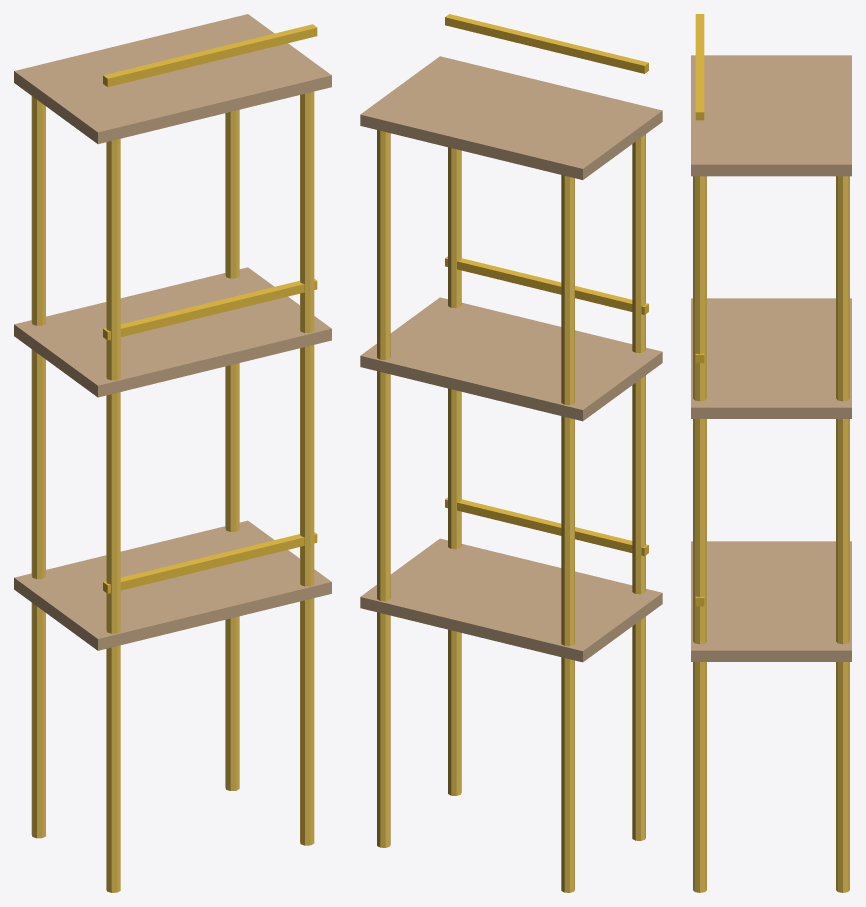
File: scaffold.fbx
3 views of the same model, side by side, from view 1: azimuth 30°, elevation 25°; view 2: azimuth 150°, elevation 25°; view 3: azimuth 270°, elevation 25° (orthographic). The views are drawn at different scales.
Visible parts, largest first — view 1: Plank2, Plank1, Plank0, Pole010, Pole000, Pole110, Pole210, Pole100, Pole200, Pole001, Pole101, Pole201 (+6 smaller); view 2: Plank2, Plank0, Plank1, Pole001, Pole011, Pole101, Pole211, Pole111, Pole201, Pole000, Pole100, Pole200 (+6 smaller); view 3: Plank2, Plank0, Plank1, Pole010, Pole011, Pole111, Pole211, Pole110, Pole210, RailX2.
Part boxes in pixels (x1,y1,x2,y2): Plank2: [14, 14, 331, 143]; Plank1: [14, 267, 331, 397]; Plank0: [14, 520, 331, 650]; Pole010: [300, 598, 314, 845]; Pole000: [106, 645, 120, 892]; Pole110: [300, 345, 314, 586]; Pole210: [300, 91, 314, 333]; Pole100: [106, 392, 120, 633]; Pole200: [106, 139, 120, 380]; Pole001: [31, 603, 45, 838]; Pole101: [31, 349, 45, 579]; Pole201: [31, 96, 45, 325]; Plank2: [360, 56, 662, 179]; Plank0: [360, 538, 662, 662]; Plank1: [360, 297, 662, 421]; Pole001: [561, 657, 574, 892]; Pole011: [377, 612, 390, 847]; Pole101: [561, 416, 574, 646]; Pole211: [377, 130, 390, 359]; Pole111: [377, 371, 390, 601]; Pole201: [561, 175, 574, 404]; Pole000: [632, 616, 645, 840]; Pole100: [632, 375, 645, 594]; Pole200: [632, 134, 645, 352]; Plank2: [691, 55, 851, 176]; Plank0: [691, 541, 851, 661]; Plank1: [691, 298, 851, 418]; Pole010: [693, 662, 706, 892]; Pole011: [836, 662, 849, 892]; Pole111: [836, 419, 849, 644]; Pole211: [836, 176, 849, 401]; Pole110: [693, 419, 706, 644]; Pole210: [693, 176, 706, 401]; RailX2: [695, 14, 704, 120].
Size of the model in its own units: 2.9 by 9.65 by 1.8.
